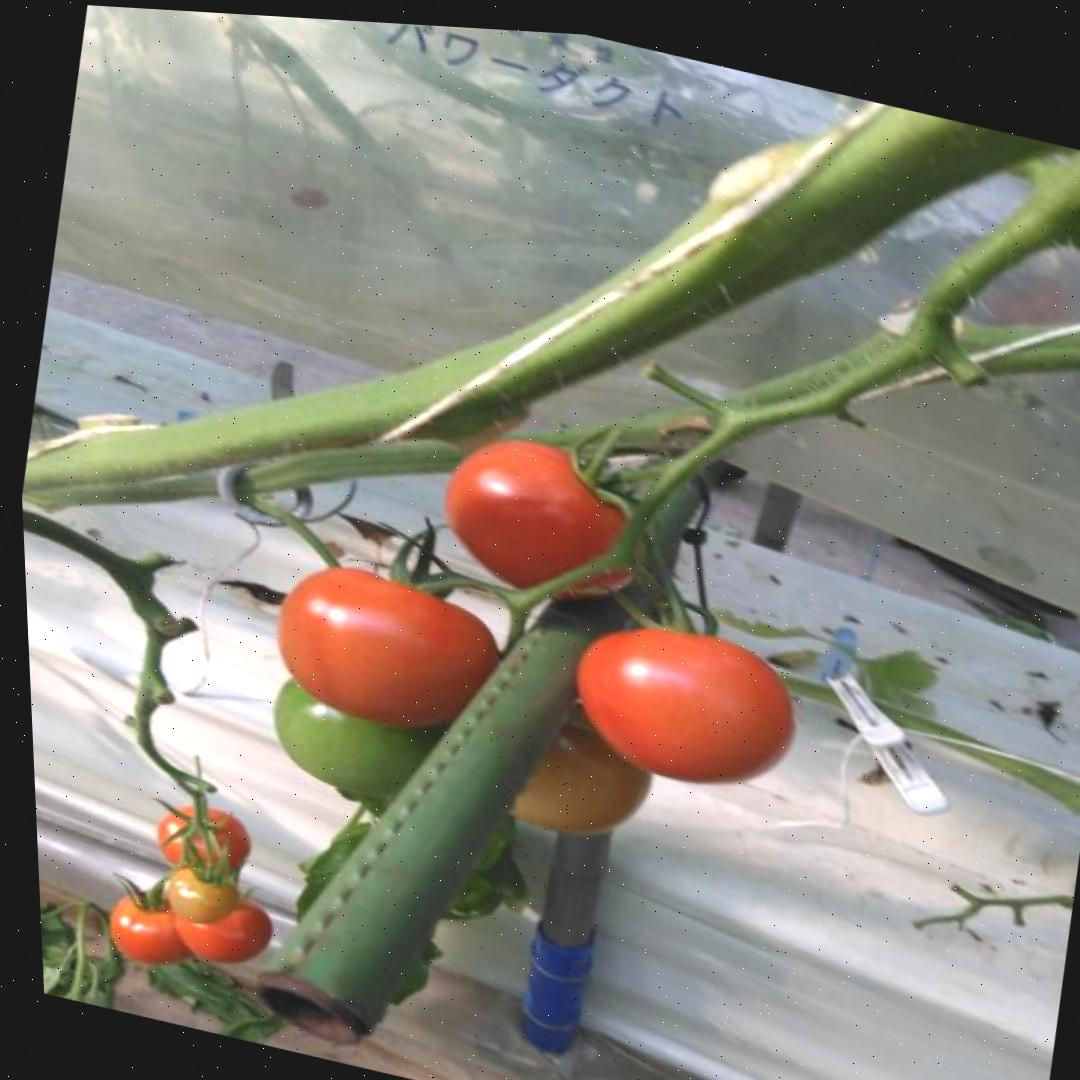matang: (259, 550, 516, 748), (558, 606, 811, 805), (428, 424, 666, 622), (105, 887, 211, 974)
mentah: (260, 657, 471, 815)
setengah_matang: (164, 862, 243, 930)
